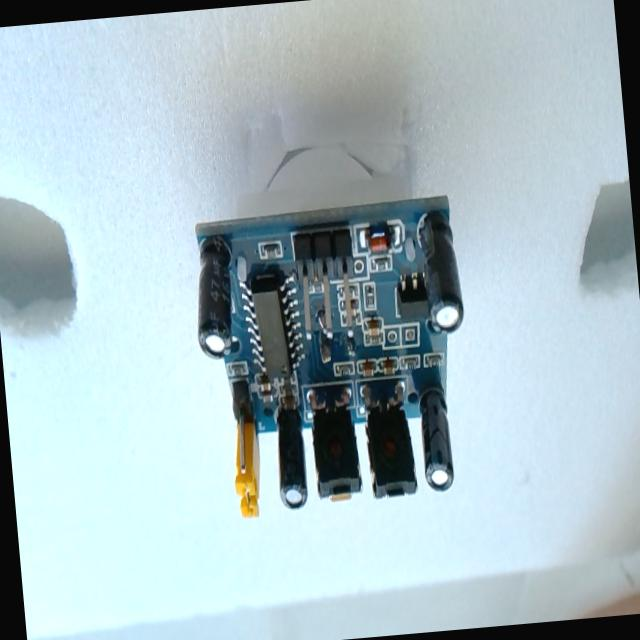Electrolytic capacitor: (188, 234, 238, 360), (416, 210, 466, 336), (416, 385, 456, 493), (272, 402, 310, 511)
IC: (240, 268, 302, 383)
pinheader: (294, 231, 358, 338)
